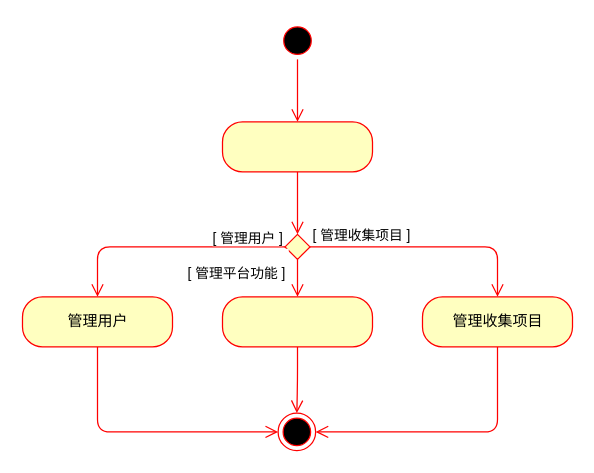
This 594x473 diagram has some shape labels left out. Here are the shapes that lost their labels. From the top down, the box of each, then its label:
(221, 121, 372, 172): 获取管理员命令
(221, 296, 372, 347): 管理平台功能
